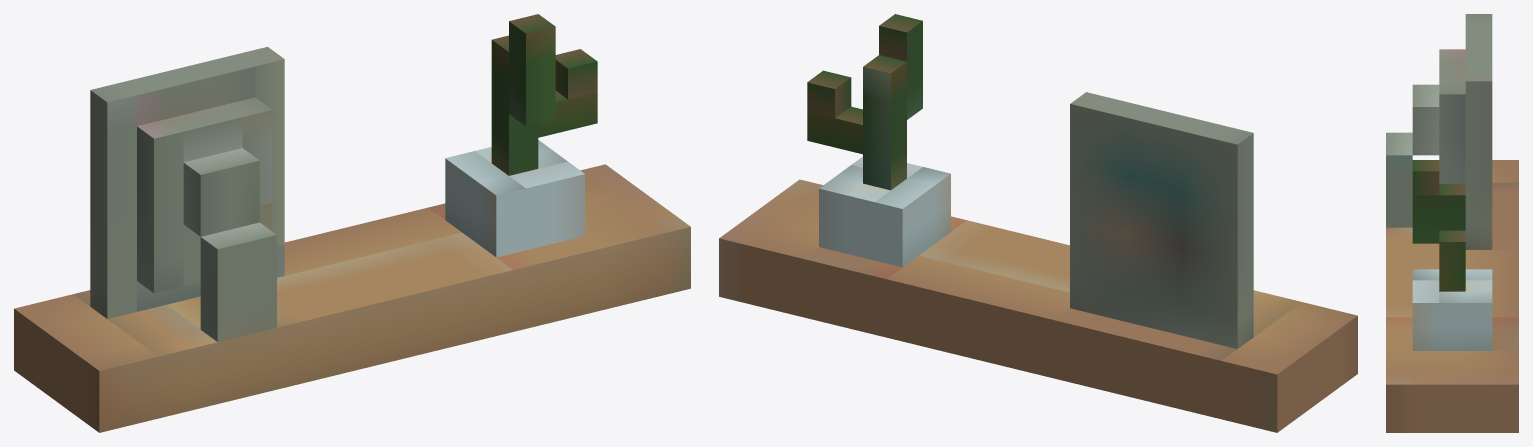
Rendered from ShelfWithItems_B_02.fbx.
3 renders of one model, left to right at view 1: azimuth 30°, elevation 25°; view 2: azimuth 150°, elevation 25°; view 3: azimuth 270°, elevation 25°, orthographic. The views are drawn at different scales.
Visible parts, largest first — view 1: ShelfWithItems_B_02; view 2: ShelfWithItems_B_02; view 3: ShelfWithItems_B_02.
Boxes of the visible parts, left/top/right/bottom form: ShelfWithItems_B_02: left=14, top=14, right=690, bottom=432; ShelfWithItems_B_02: left=719, top=14, right=1357, bottom=432; ShelfWithItems_B_02: left=1386, top=14, right=1518, bottom=432.
Bounding box in the file's own units: 100 × 25 × 45.
Materials: 1 (1 with a texture image).
